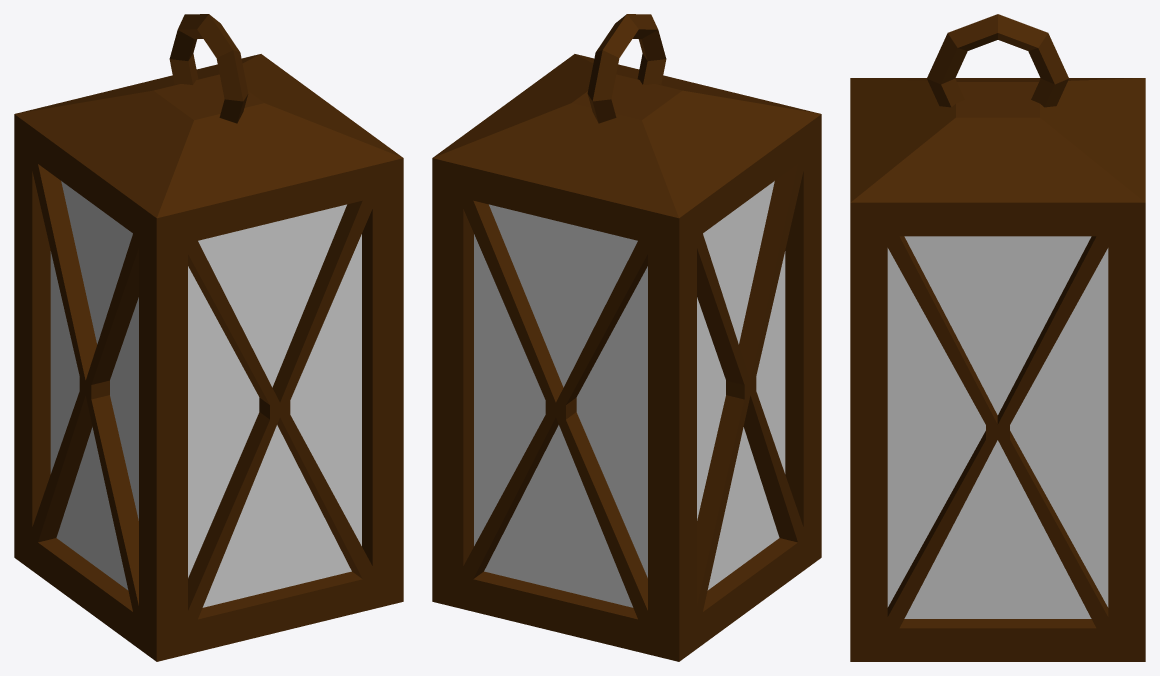
Rendered from farolillo.fbx.
3 renders of one model, left to right at view 1: azimuth 30°, elevation 25°; view 2: azimuth 150°, elevation 25°; view 3: azimuth 270°, elevation 25°, orthographic. The views are drawn at different scales.
Visible parts, largest first — view 1: farolillo; view 2: farolillo; view 3: farolillo.
Boxes of the visible parts, <box> form: farolillo: <box>14,14,403,661</box>; farolillo: <box>432,14,821,661</box>; farolillo: <box>850,14,1145,661</box>.
Size of the model in its own units: 8.33 by 18.24 by 8.33.
